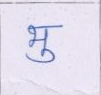u_matra: (26, 49, 57, 64)
